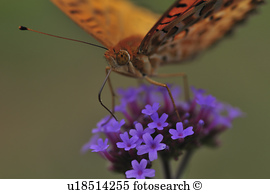Argyreus hyperbius: (18, 1, 266, 127)
butterfly: (16, 1, 264, 127)
